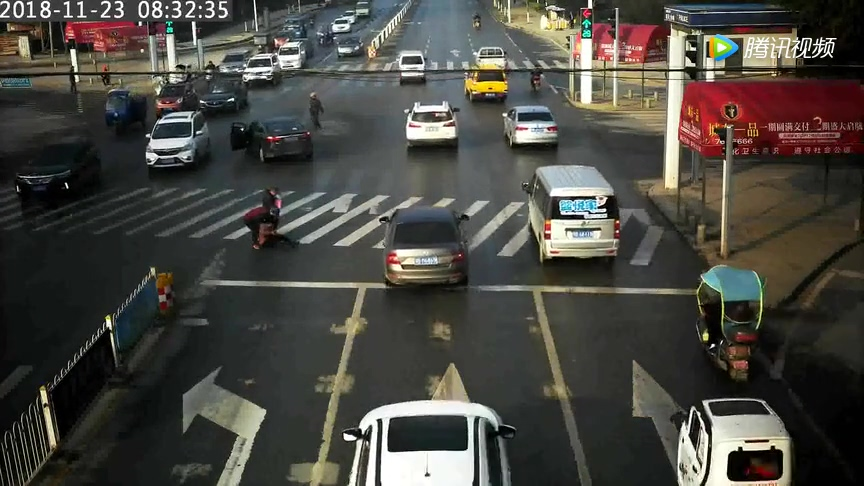car: (520, 157, 634, 278), (373, 200, 480, 292), (143, 105, 214, 172), (230, 107, 314, 161), (398, 97, 466, 150), (498, 100, 564, 145), (96, 84, 147, 131), (386, 44, 431, 87), (466, 41, 519, 72)
person: (236, 196, 283, 244), (256, 218, 312, 257), (307, 89, 331, 132), (527, 61, 542, 99), (465, 9, 487, 30), (63, 60, 77, 91)
